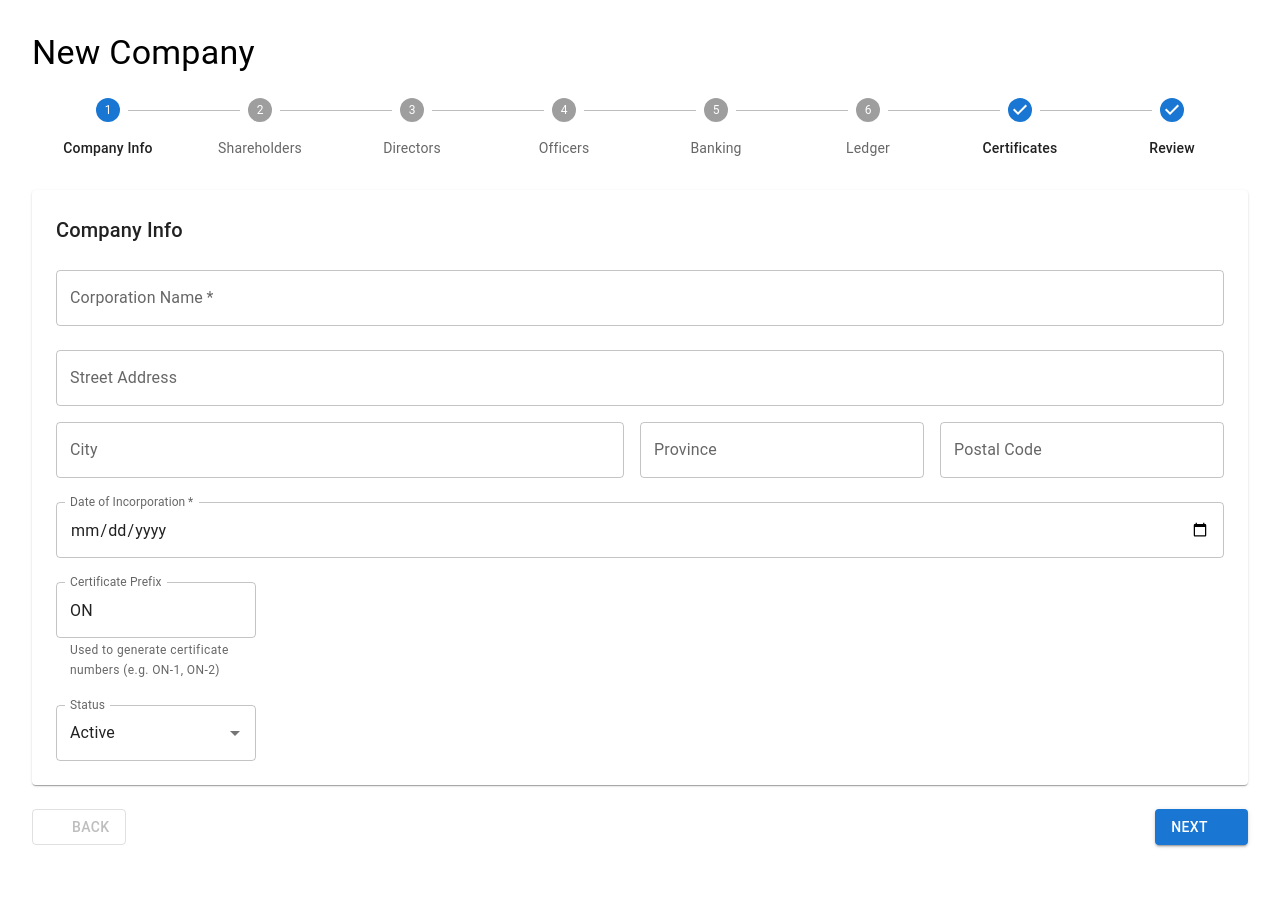
Test: GenerateDocumentsPage › goes back from step 1 to step 0
Click the button "Next". click: (1202, 827)
box: left=1155, top=809, right=1248, bottom=845
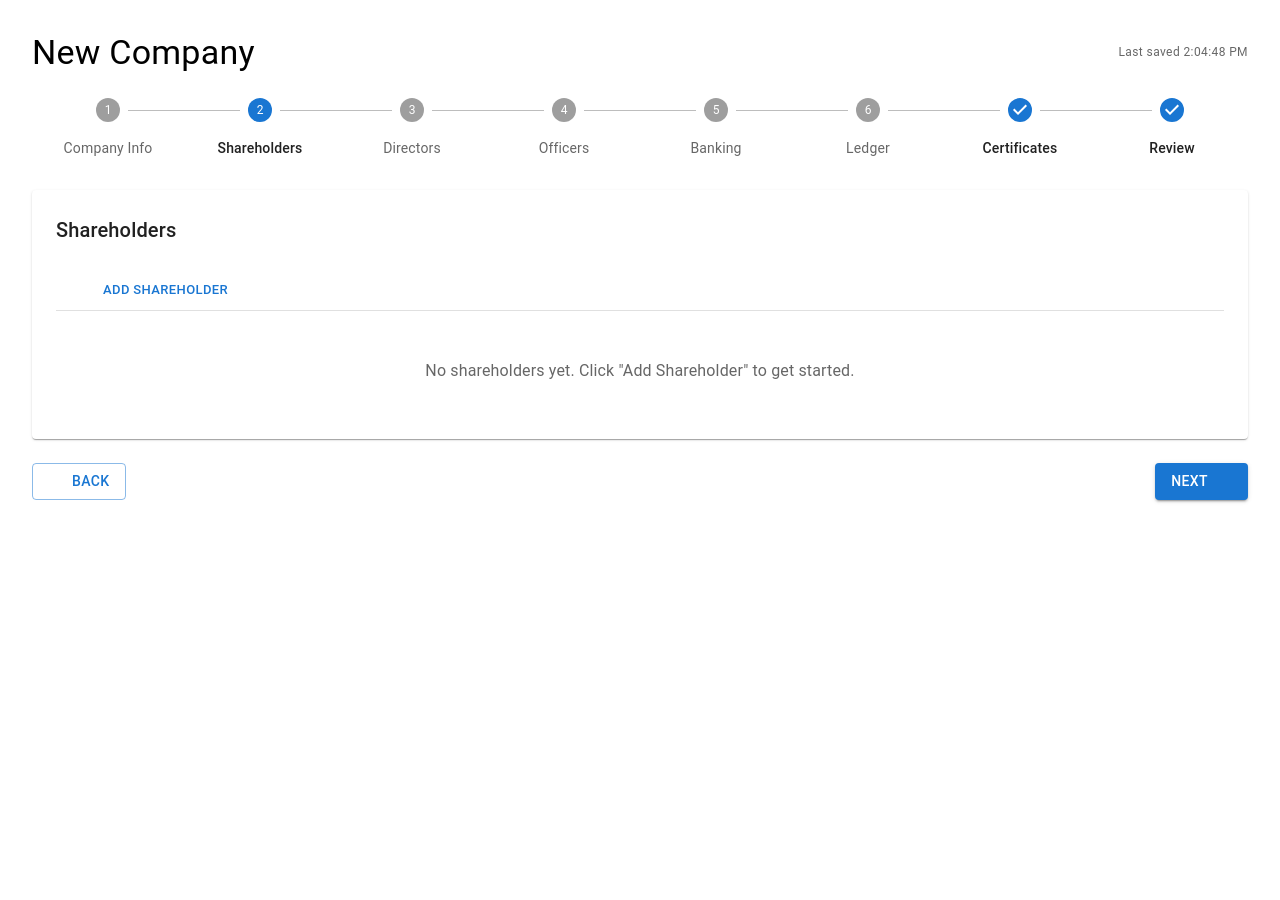
Expected: the button "Add Shareholder" is shown, left=72, top=275, right=233, bottom=306
Click the button "Back". click: (79, 481)
box: left=32, top=463, right=126, bottom=500
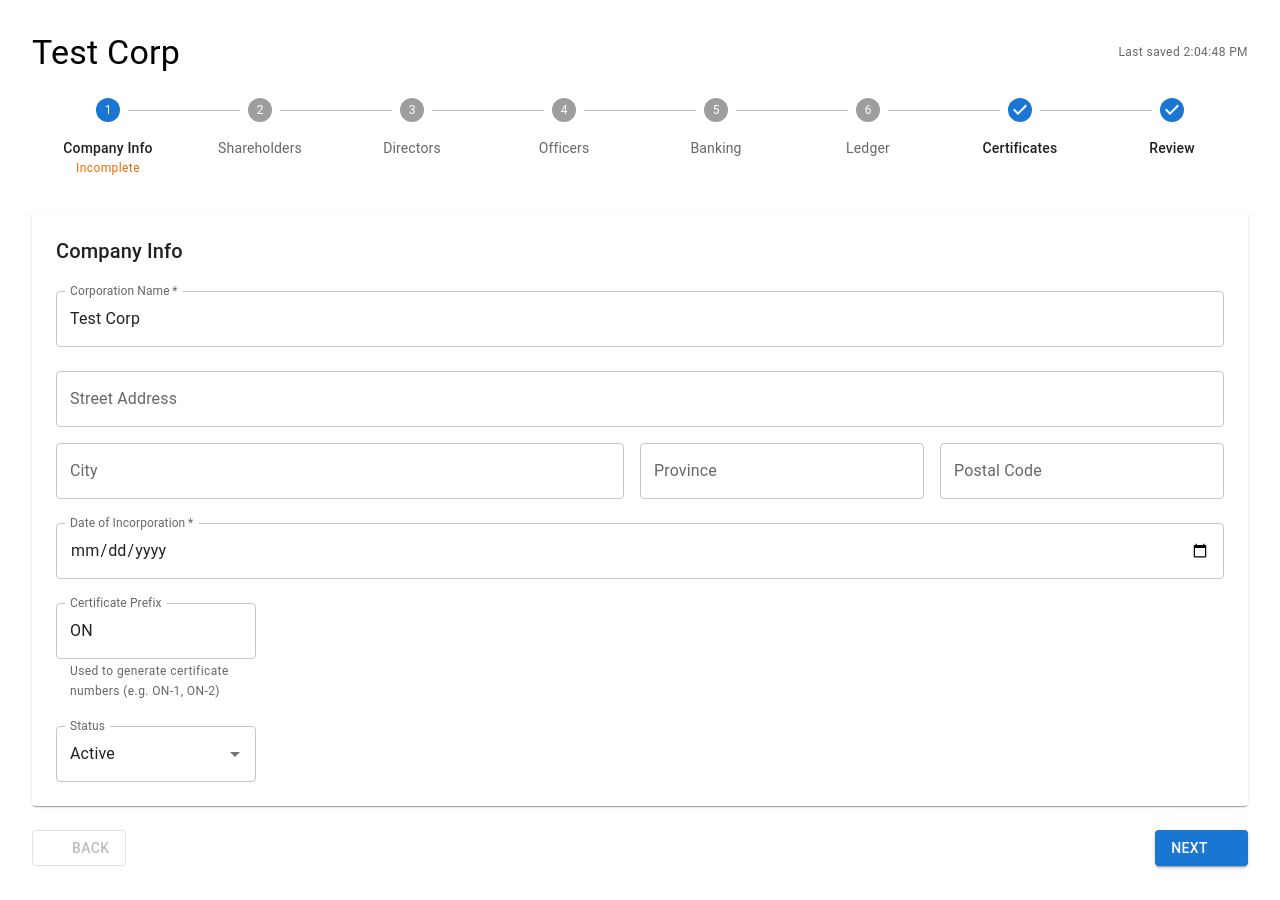
Expected: the field labelled "Corporation Name *" is shown, left=56, top=291, right=1224, bottom=347
